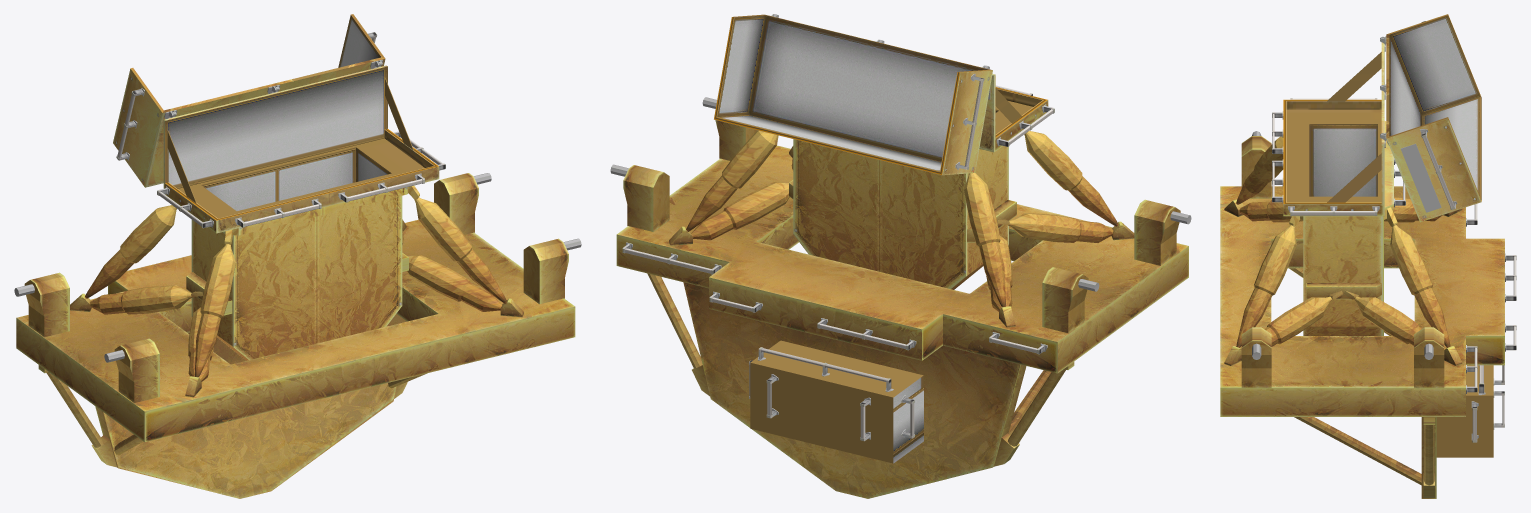
Rendered from superlight.fbx.
3 renders of one model, left to right at view 1: azimuth 30°, elevation 25°; view 2: azimuth 150°, elevation 25°; view 3: azimuth 270°, elevation 25°, orthographic. The views are drawn at different scales.
Visible parts, largest first — view 1: node_9e444ebd_21f3_4686_b370_c5e8aad5476a_mesh0; view 2: node_9e444ebd_21f3_4686_b370_c5e8aad5476a_mesh0; view 3: node_9e444ebd_21f3_4686_b370_c5e8aad5476a_mesh0, node_9e444ebd_21f3_4686_b370_c5e8aad5476a_mesh1.
Part boxes in pixels (box(x1,y1,x2,y2)): node_9e444ebd_21f3_4686_b370_c5e8aad5476a_mesh0: box(14, 14, 581, 498); node_9e444ebd_21f3_4686_b370_c5e8aad5476a_mesh0: box(610, 14, 1191, 498); node_9e444ebd_21f3_4686_b370_c5e8aad5476a_mesh0: box(1220, 14, 1516, 498); node_9e444ebd_21f3_4686_b370_c5e8aad5476a_mesh1: box(1384, 52, 1441, 212).
Size of the model in its own units: 19327 by 17345 by 10951.
